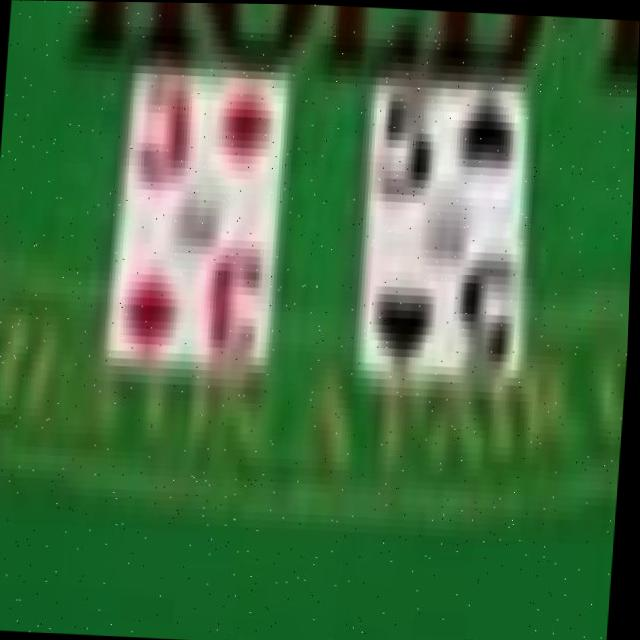Card-3: (112, 59, 288, 373)
Card-5: (364, 75, 525, 380)
